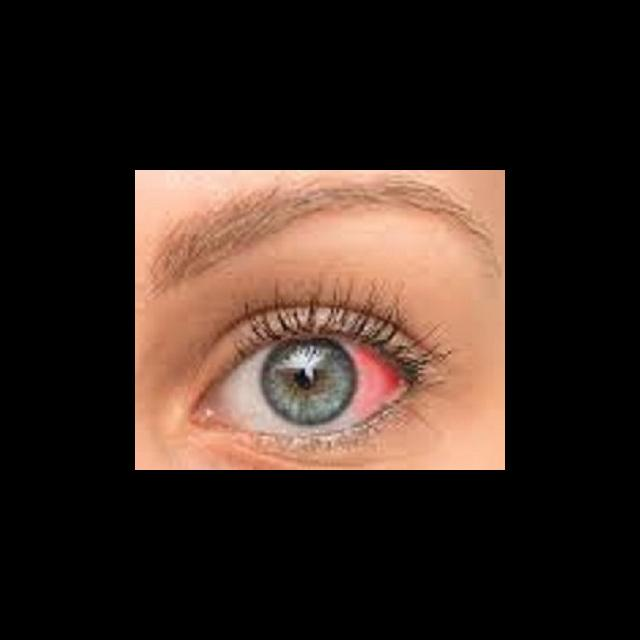eye: (210, 335, 405, 436)
iris: (263, 341, 357, 426)
